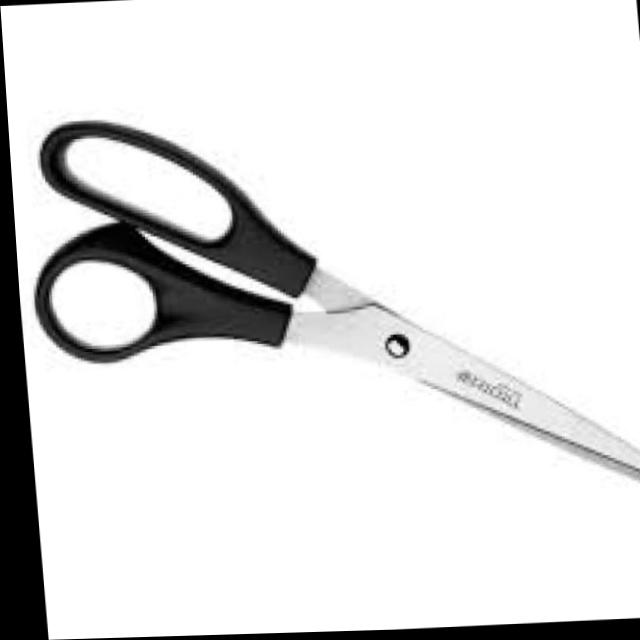scissor: (16, 98, 640, 525)
